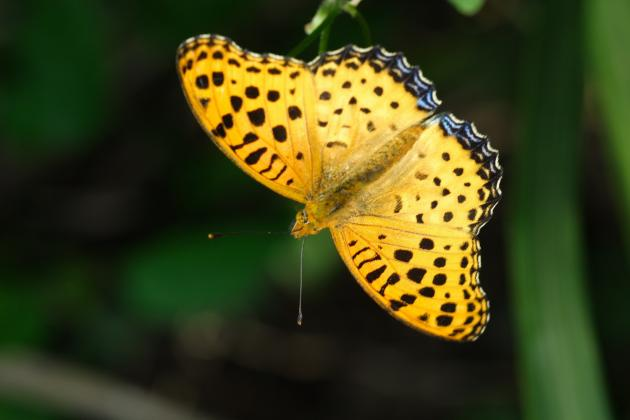Argyreus hyperbius: (170, 29, 508, 343)
butterfly: (172, 31, 510, 345)
